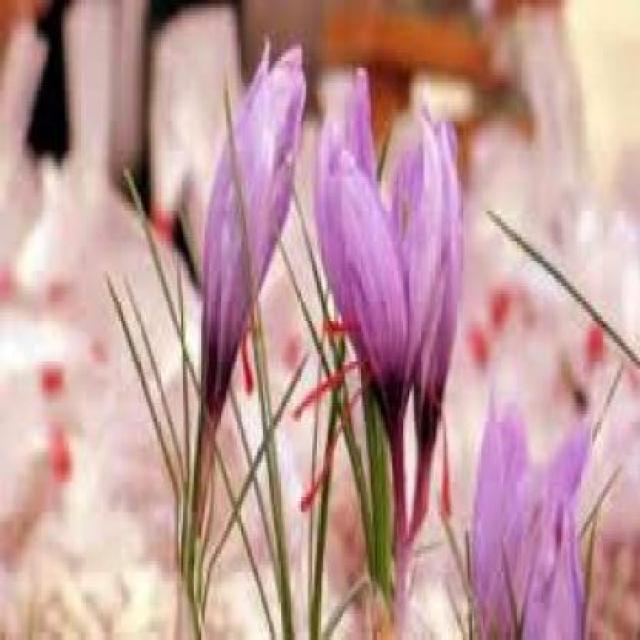Flower: (198, 35, 308, 462), (319, 103, 447, 435), (404, 117, 462, 469)
stigma: (430, 406, 464, 522), (318, 309, 362, 336)
